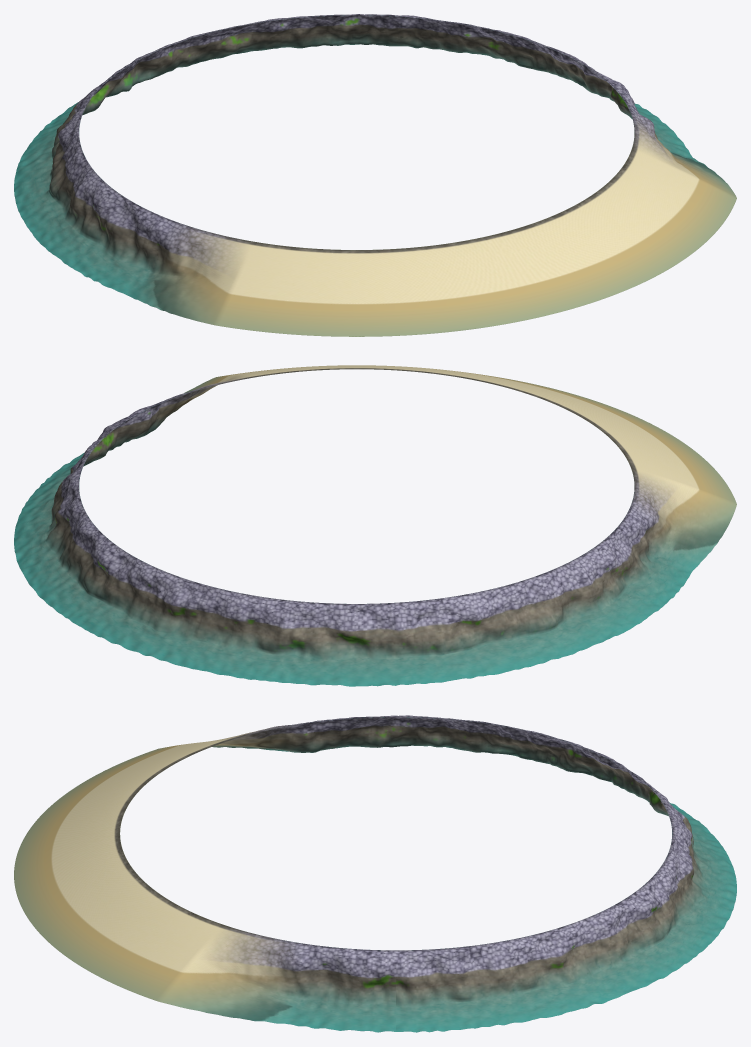
The model's file is falaise.glb.
The picture shows the model from 3 angles, top to bottom: view 1: azimuth 30°, elevation 25°; view 2: azimuth 150°, elevation 25°; view 3: azimuth 270°, elevation 25°; orthographic projection.
Visible parts, largest first — view 1: falaise; view 2: falaise; view 3: falaise.
Part boxes in pixels (x1,y1,x2,y2): falaise: (14,14,736,336); falaise: (14,365,736,686); falaise: (14,715,736,1032).
Size of the model in its own units: 57.8 by 5.21 by 61.3.
Materials: 1 (1 with a texture image).
